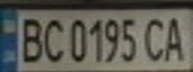0: (66, 15, 87, 64)
1: (84, 15, 106, 63)
5: (118, 15, 142, 63)
9: (103, 15, 124, 63)
A: (160, 12, 190, 63)
B: (15, 13, 45, 64)
C: (139, 14, 172, 63), (39, 15, 66, 64)
